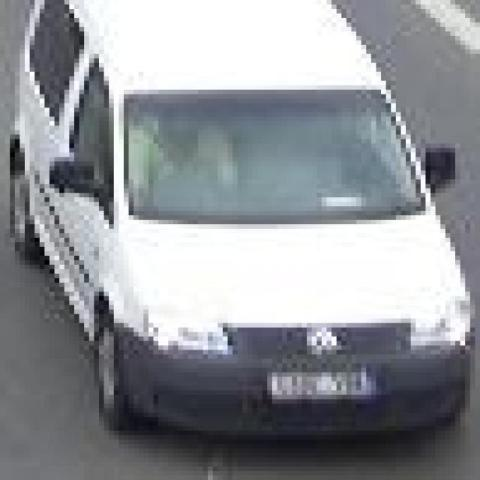van: (8, 0, 472, 435)
